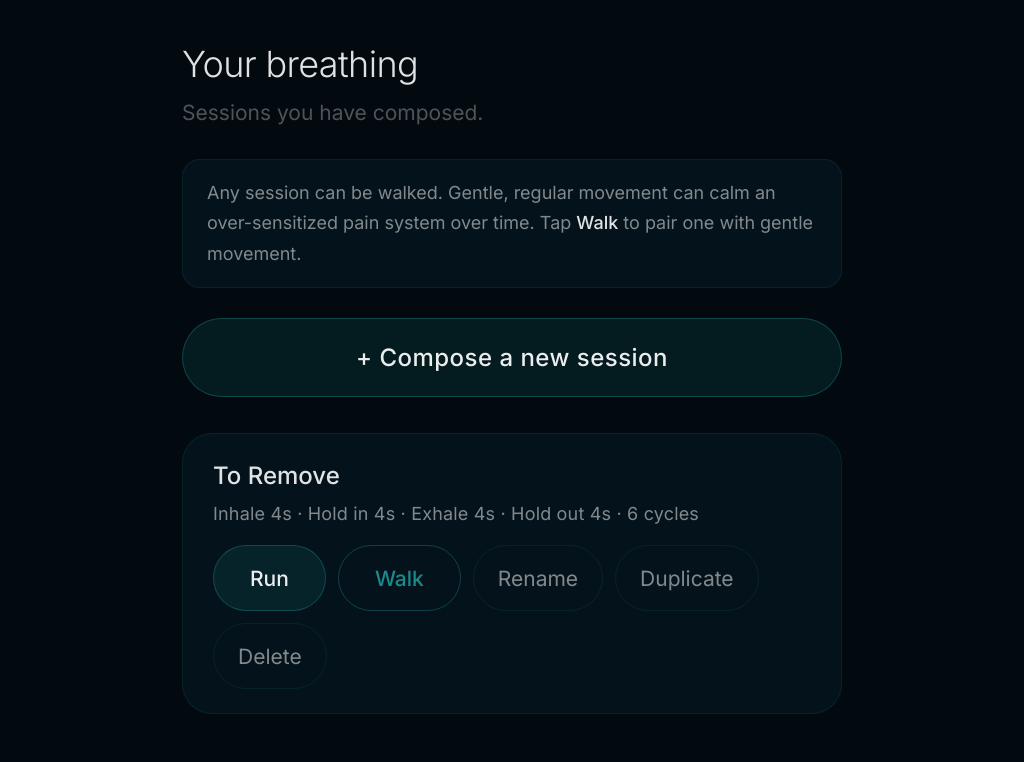
Test: CustomLibraryScreen — delete with pre-confirm summary › shows a session summary before confirming a delete
(page scrolled)
Click the button with aria-label "delete to remove" at (270, 656), box 213,623 -> 327,689
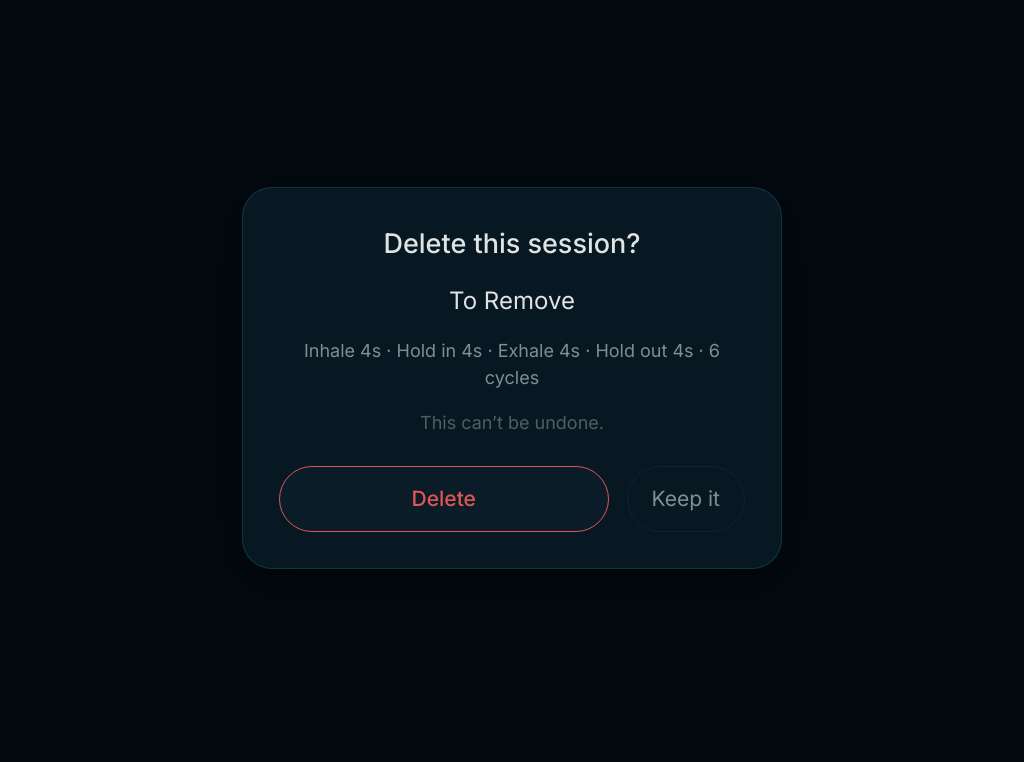
Check: the text "To Remove" is shown, box 449,286 -> 575,315
Check: the text "Inhale 4s · Hold in 4s · Exhale 4s · Hold out 4s · 6 cycles" is shown, box 279,337 -> 745,391
